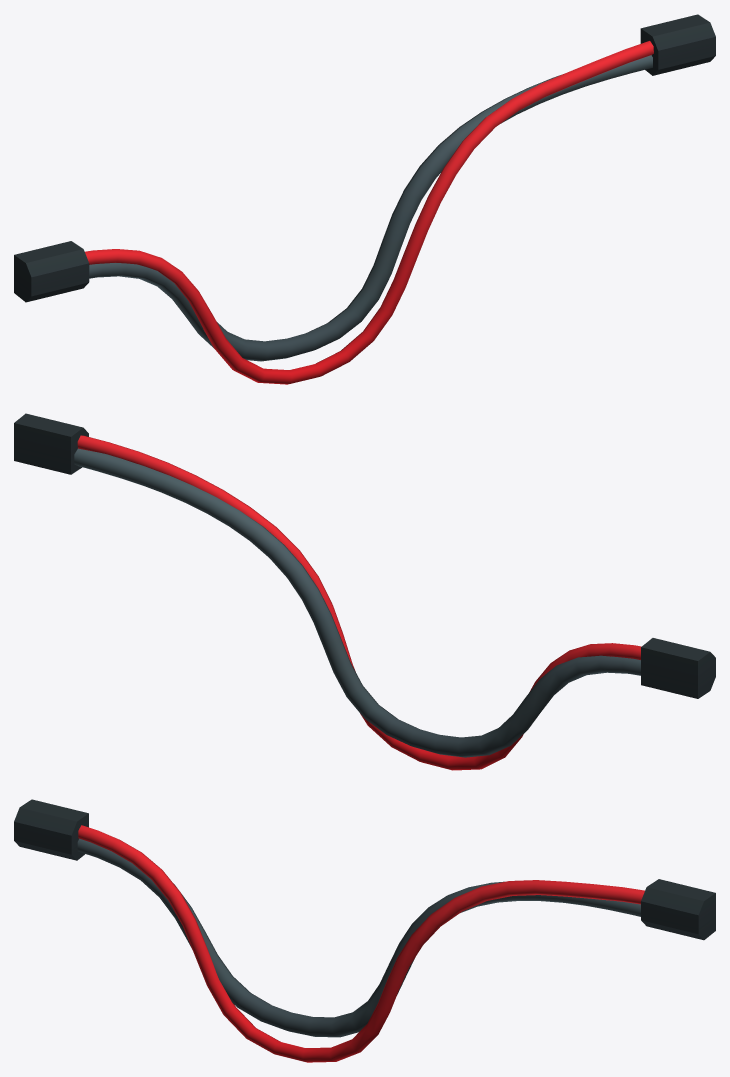
File: Cable_type_A_002.glb
3 renders of one model, top to bottom at view 1: azimuth 30°, elevation 25°; view 2: azimuth 150°, elevation 25°; view 3: azimuth 330°, elevation 25°, orthographic.
Parts seen in each view (by area): view 1: Cable_type_A_002; view 2: Cable_type_A_002; view 3: Cable_type_A_002.
Boxes of the visible parts, x1,y1,x2,y2 form: Cable_type_A_002: (14, 14, 715, 384); Cable_type_A_002: (14, 413, 715, 770); Cable_type_A_002: (14, 799, 715, 1062).
Bounding box in the file's own units: 1.85 × 0.6624 × 0.1032.
Materials: 1 (1 with a texture image).
